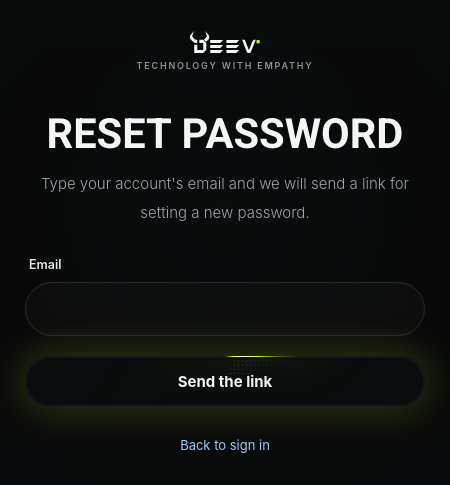
Test: asking for a reset link › says when no account uses the address, instead of pretending to send
Type "nobody@example.com" into the field labelled "Email". click: (225, 309)
box: [25,282,425,336]
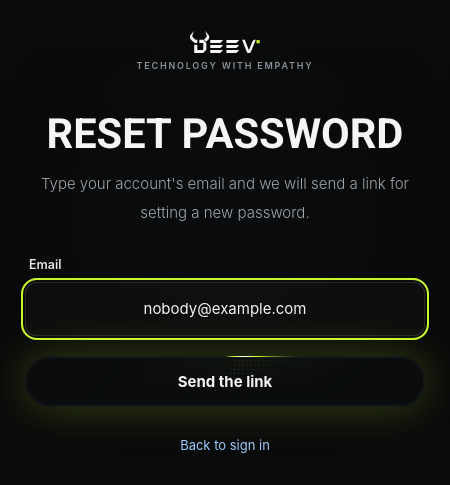
Click the button "Send the link". click: (225, 381)
box: [25,356,425,407]
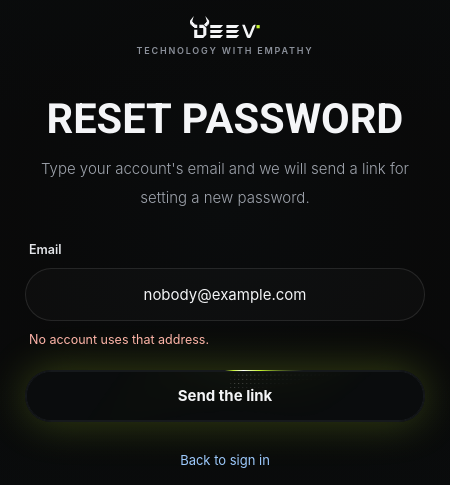
expect the message reads "No account uses that address.": met, box [29,332,209,347]
